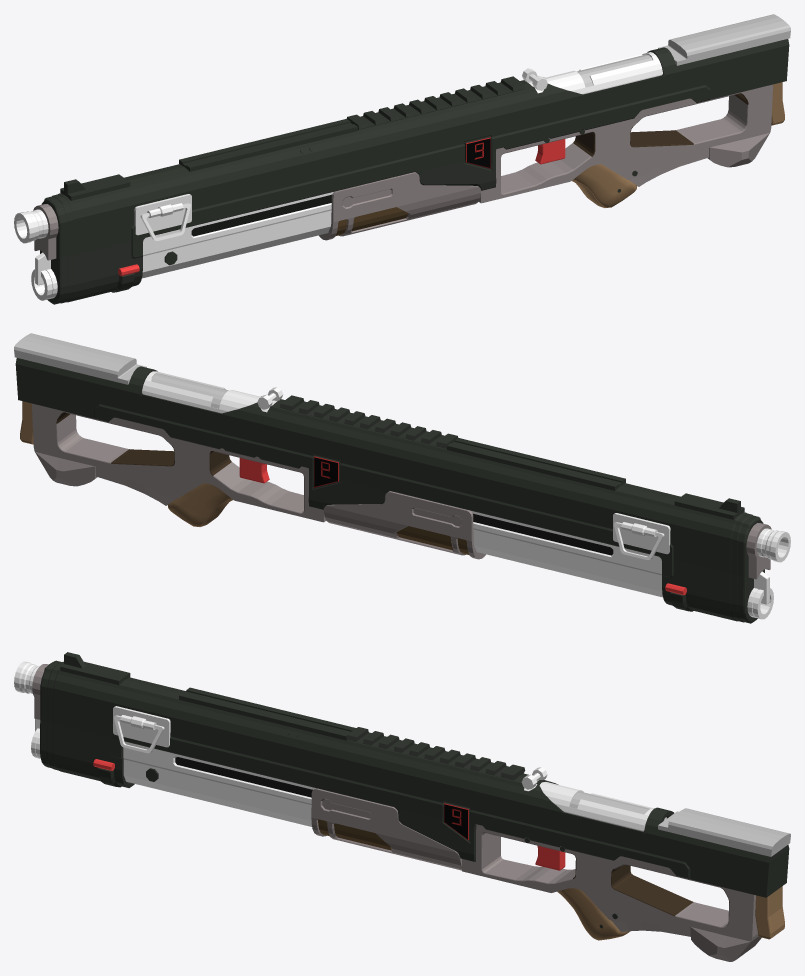
Rendered from draft shotgun.obj.
3 renders of one model, top to bottom at view 1: azimuth 30°, elevation 25°; view 2: azimuth 150°, elevation 25°; view 3: azimuth 330°, elevation 25°, orthographic.
Parts seen in each view (by area): view 1: Cylinder.005, Cube.004_Cube.005, Cube.003_Cube.004, Cylinder.008_Cylinder.009, Cube.006_Cube.007, Cube.009_Cube.010, Cube.008_Cube.009, Cylinder.011_Cylinder.012, Cylinder.013_Cylinder.015, Cube.013_Cube.015, Cube.010_Cube.011, Cylinder.006 (+4 smaller); view 2: Cylinder.005, Cube.004_Cube.005, Cube.003_Cube.004, Cylinder.008_Cylinder.009, Cube.006_Cube.007, Cube.009_Cube.010, Cube.008_Cube.009, Cylinder.011_Cylinder.012, Cylinder.013_Cylinder.015, Cube.013_Cube.015, Cube.010_Cube.011, Cylinder.006 (+4 smaller); view 3: Cylinder.005, Cube.004_Cube.005, Cube.003_Cube.004, Cylinder.008_Cylinder.009, Cube.006_Cube.007, Cube.008_Cube.009, Cube.009_Cube.010, Cylinder.011_Cylinder.012, Cylinder.013_Cylinder.015, Cube.013_Cube.015, Cube.007_Cube.008, Cube.010_Cube.011 (+3 smaller).
Part boxes in pixels (x1=…): Cylinder.005: x1=40, y1=39, x2=789, y2=304; Cube.004_Cube.005: x1=479, y1=84, x2=773, y2=203; Cube.003_Cube.004: x1=142, y1=192, x2=333, y2=278; Cylinder.008_Cylinder.009: x1=319, y1=172, x2=480, y2=240; Cube.006_Cube.007: x1=658, y1=14, x2=790, y2=65; Cube.009_Cube.010: x1=179, y1=118, x2=357, y2=171; Cube.008_Cube.009: x1=347, y1=76, x2=525, y2=129; Cylinder.011_Cylinder.012: x1=527, y1=52, x2=662, y2=94; Cylinder.013_Cylinder.015: x1=134, y1=194, x2=191, y2=240; Cube.013_Cube.015: x1=572, y1=164, x2=637, y2=207; Cube.010_Cube.011: x1=60, y1=174, x2=130, y2=200; Cylinder.006: x1=14, y1=209, x2=48, y2=243; Cylinder.005: x1=15, y1=358, x2=764, y2=623; Cube.004_Cube.005: x1=31, y1=403, x2=325, y2=522; Cube.003_Cube.004: x1=471, y1=511, x2=662, y2=597; Cylinder.008_Cylinder.009: x1=324, y1=491, x2=485, y2=559; Cube.006_Cube.007: x1=14, y1=333, x2=146, y2=384; Cube.009_Cube.010: x1=447, y1=437, x2=625, y2=490; Cube.008_Cube.009: x1=279, y1=395, x2=457, y2=448; Cylinder.011_Cylinder.012: x1=142, y1=371, x2=276, y2=413; Cylinder.013_Cylinder.015: x1=613, y1=513, x2=670, y2=559; Cube.013_Cube.015: x1=167, y1=483, x2=232, y2=526; Cube.010_Cube.011: x1=674, y1=493, x2=744, y2=519; Cylinder.006: x1=756, y1=528, x2=790, y2=562; Cylinder.005: x1=40, y1=660, x2=789, y2=897; Cube.004_Cube.005: x1=462, y1=824, x2=761, y2=961; Cube.003_Cube.004: x1=123, y1=741, x2=315, y2=826; Cylinder.008_Cylinder.009: x1=311, y1=788, x2=461, y2=870; Cube.006_Cube.007: x1=658, y1=808, x2=790, y2=856; Cube.008_Cube.009: x1=346, y1=727, x2=525, y2=780; Cube.009_Cube.010: x1=179, y1=687, x2=356, y2=740; Cylinder.011_Cylinder.012: x1=524, y1=780, x2=666, y2=831; Cylinder.013_Cylinder.015: x1=113, y1=706, x2=170, y2=753; Cube.013_Cube.015: x1=557, y1=888, x2=629, y2=940; Cube.007_Cube.008: x1=755, y1=886, x2=784, y2=939; Cube.010_Cube.011: x1=60, y1=652, x2=130, y2=684.
Size of the model in its own units: 24.66 by 4.71 by 1.9.
